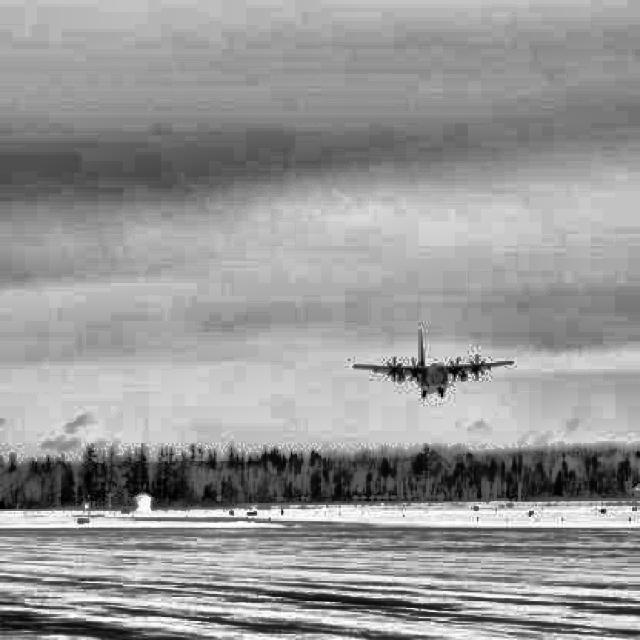C130: (350, 328, 515, 398)
